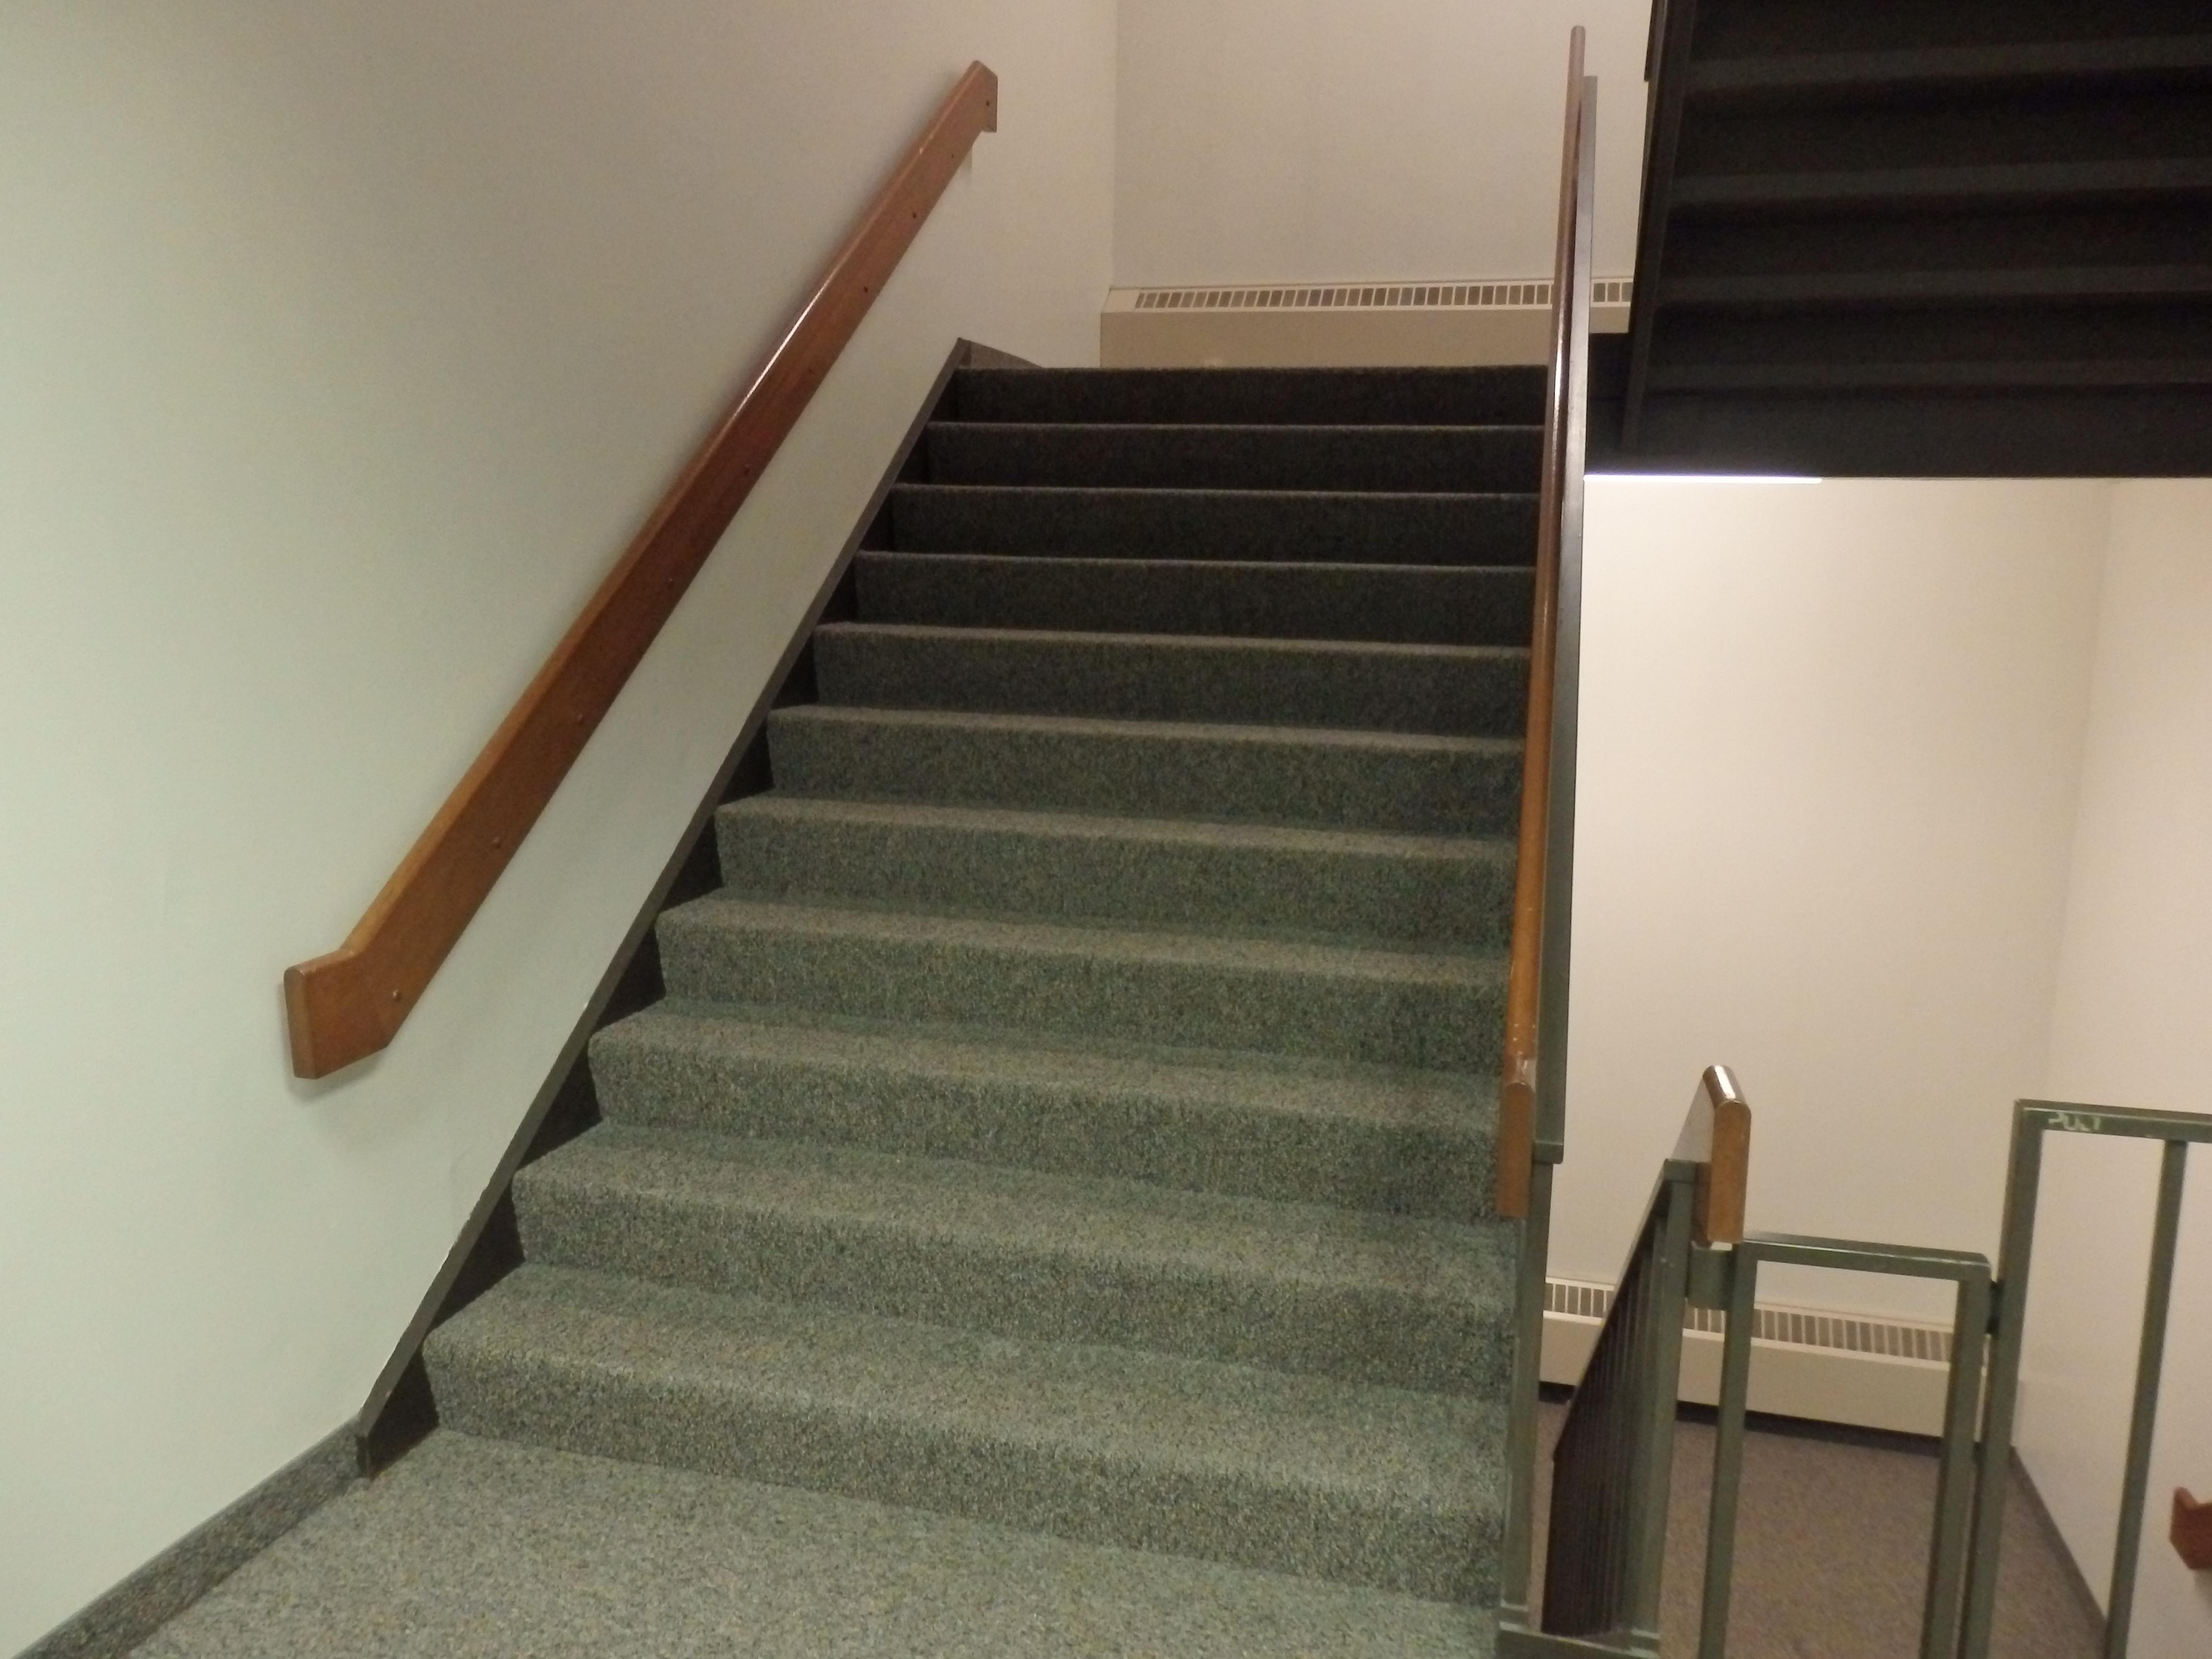stairs_up: (415, 350, 1548, 1556)
